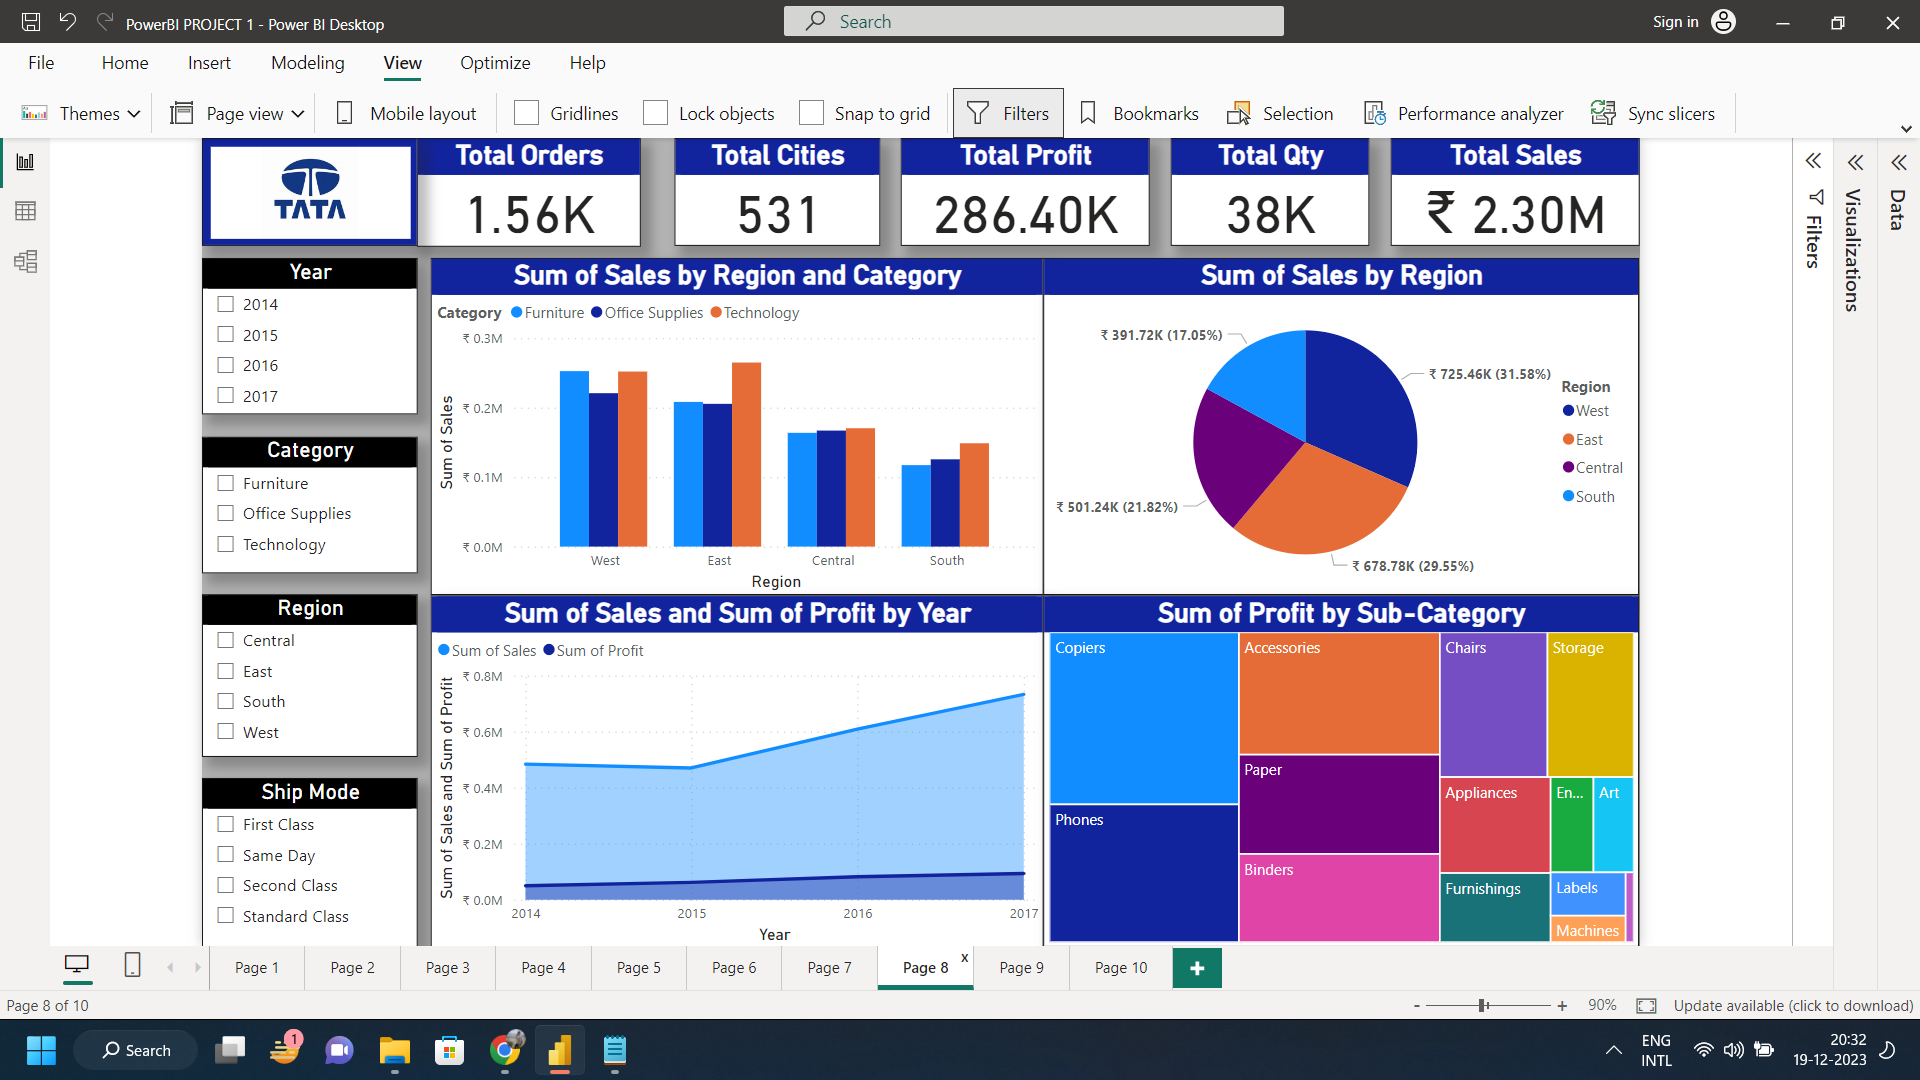

What the dashboard file says about the page in this screenshot:
{"tool":"powerbi","page":{"name":"Page 8","canvas":[1280,720],"ordinal":7},"visuals":[{"type":"card","title":"Total Sales","fields":{"Values":["Sum(Orders.Sales)"]},"box":[1058,0,221.7,96],"z":0},{"type":"card","title":"Total Cities","fields":{"Values":["Count(Orders.City)"]},"box":[421.1,0,183.1,96],"z":1000},{"type":"card","title":"Total Orders","fields":{"Values":["Sum(Orders.Discount)"]},"box":[191.8,0,199,96.5],"z":2000},{"type":"card","title":"Total Profit","fields":{"Values":["Sum(Orders.Profit)"]},"box":[622.5,0,221.7,96],"z":3000},{"type":"card","title":"Total Qty","fields":{"Values":["Sum(Orders.Quantity)"]},"box":[862.5,0,177.2,96],"z":4000},{"type":"image","box":[0,0,192,96],"z":5000},{"type":"shape","box":[0,0,192,96],"z":6000},{"type":"slicer","title":"Year","fields":{"Values":["Orders.Order Date.Variation.Date Hierarchy.Year"]},"box":[0,106.9,192,139.5],"z":7000},{"type":"slicer","title":"Category","fields":{"Values":["Orders.Category"]},"box":[0,265.6,192,121.7],"z":8000},{"type":"slicer","title":"Region","fields":{"Values":["Orders.Region"]},"box":[0,406.4,192,144.5],"z":9000},{"type":"slicer","title":"Ship Mode","fields":{"Values":["Orders.Ship Mode"]},"box":[0,569.6,192,150.4],"z":10000},{"type":"clusteredColumnChart","fields":{"Y":["Sum(Orders.Sales)"],"Category":["Orders.Region"],"Series":["Orders.Category"]},"box":[203.9,106.9,545.3,299.9],"z":11000},{"type":"pieChart","fields":{"Y":["Sum(Orders.Sales)"],"Category":["Orders.Region"]},"box":[749.2,106.9,530.5,299.9],"z":12000},{"type":"areaChart","fields":{"Y":["Sum(Orders.Sales)","Sum(Orders.Profit)"],"Category":["Orders.Order Date.Variation.Date Hierarchy.Year"]},"box":[203.9,406.8,545.3,313.7],"z":13000},{"type":"treemap","fields":{"Values":["Sum(Orders.Profit)"],"Group":["Orders.Sub-Category"]},"box":[749,407,530,313],"z":14000}]}

Visuals, with their boxes on the page's 1280x720 design canvas (x1, y1, x2, y2). These are canvas units, not pixel positions in the 1920x1080 screenshot, which may show the page scaled, cropped or inside an application window:
"Total Sales" card: box(1058, 0, 1280, 96)
"Total Cities" card: box(421, 0, 604, 96)
"Total Orders" card: box(192, 0, 391, 96)
"Total Profit" card: box(622, 0, 844, 96)
"Total Qty" card: box(862, 0, 1040, 96)
image: box(0, 0, 192, 96)
shape: box(0, 0, 192, 96)
"Year" slicer: box(0, 107, 192, 246)
"Category" slicer: box(0, 266, 192, 387)
"Region" slicer: box(0, 406, 192, 551)
"Ship Mode" slicer: box(0, 570, 192, 720)
clusteredColumnChart - Sum(Orders.Sales) x Orders.Region: box(204, 107, 749, 407)
pieChart - Sum(Orders.Sales) x Orders.Region: box(749, 107, 1280, 407)
areaChart - Sum(Orders.Sales) x Sum(Orders.Profit): box(204, 407, 749, 720)
treemap - Sum(Orders.Profit) x Orders.Sub-Category: box(749, 407, 1279, 720)
